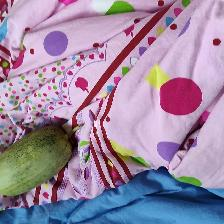gua: (8, 145, 44, 181)
